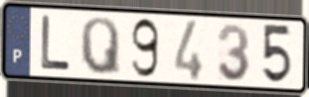3: (215, 21, 253, 84)
4: (172, 17, 205, 83)
5: (260, 22, 294, 86)
9: (129, 17, 162, 80)
L: (39, 13, 72, 74)
Q: (78, 15, 123, 78)
